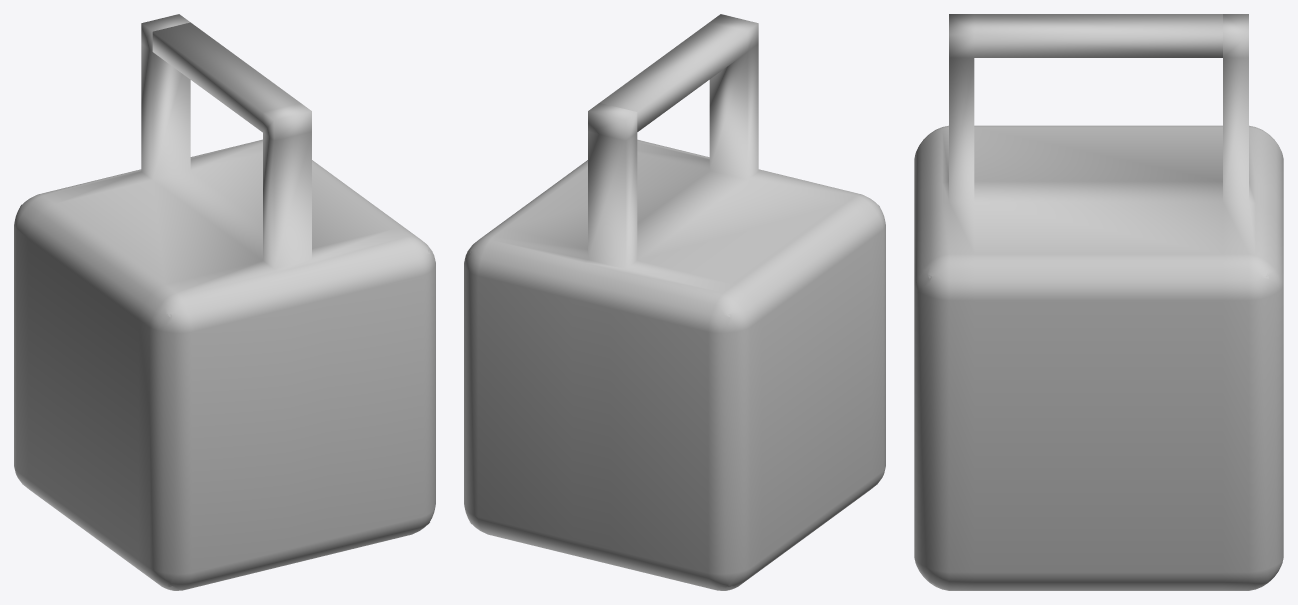
File: Level_Module.glb
3 views of the same model, side by side, from view 1: azimuth 30°, elevation 25°; view 2: azimuth 150°, elevation 25°; view 3: azimuth 270°, elevation 25° (orthographic). The views are drawn at different scales.
Visible parts, largest first — view 1: Cube; view 2: Cube; view 3: Cube.
Part boxes in pixels (bbox=[...]): Cube: bbox=[14, 14, 435, 590]; Cube: bbox=[464, 14, 885, 590]; Cube: bbox=[914, 14, 1283, 590].
Bounding box in the file's own units: 2 × 3 × 2.
1 material, 1 textured.
